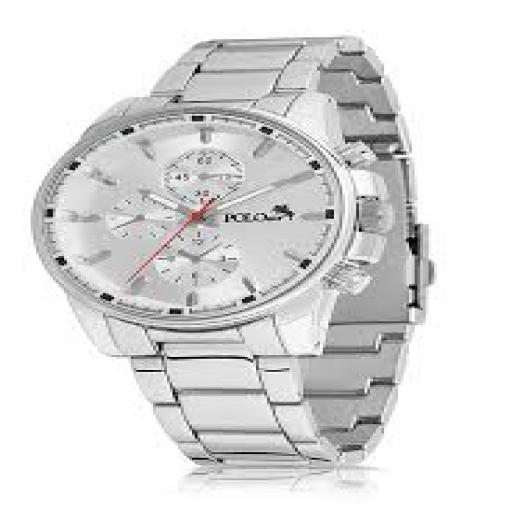KolSaati: (20, 23, 464, 497)
